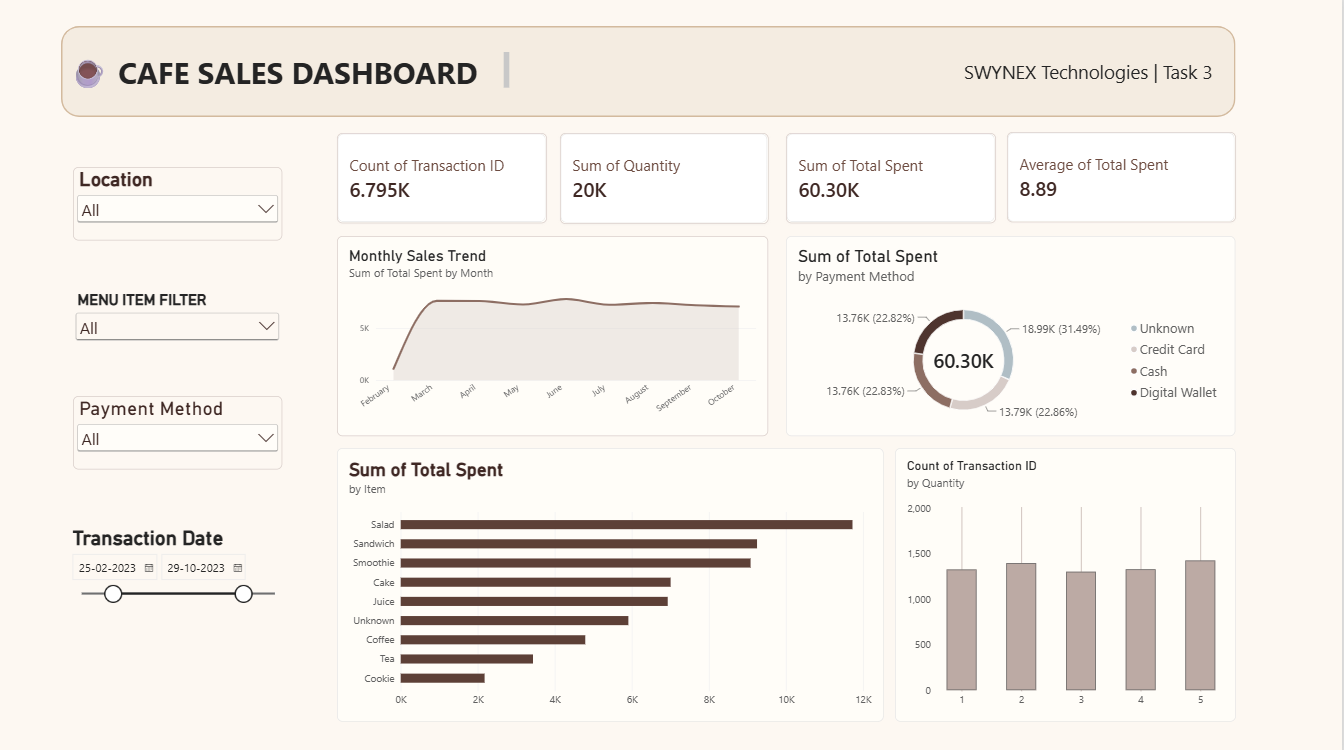

This screenshot's page, from the dashboard's own definition file:
{"tool":"powerbi","page":{"name":"Page 1","canvas":[1920,1080],"ordinal":0},"visuals":[{"type":"shape","box":[90.5,39.4,1677.8,129.8],"z":500},{"type":"cardVisual","fields":{"Data":["Sum(cleaned_cafe_sales.Total Spent)"]},"box":[1126.3,192.6,299.8,128.9],"z":1000},{"type":"cardVisual","fields":{"Data":["Count(cleaned_cafe_sales.Transaction ID)"]},"box":[484.4,192.6,299.8,128.9],"z":2000},{"type":"cardVisual","fields":{"Data":["Sum(cleaned_cafe_sales.Quantity)"]},"box":[802.4,192.6,297.6,129.8],"z":3000},{"type":"cardVisual","fields":{"Data":["Avg(cleaned_cafe_sales.Total Spent)"]},"box":[1441.5,191.1,327,129.4],"z":4000},{"type":"slicer","fields":{"Values":["cleaned_cafe_sales.Location"]},"box":[106.5,240.7,299,104.9],"z":5000},{"type":"slicer","fields":{"Values":["cleaned_cafe_sales.Payment Method"]},"box":[106.5,569,299.1,105],"z":6000},{"type":"slicer","fields":{"Values":["cleaned_cafe_sales.Transaction Date"]},"box":[99.2,754.3,315.1,268.4],"z":7000},{"type":"barChart","fields":{"Category":["cleaned_cafe_sales.Item"],"Y":["Sum(cleaned_cafe_sales.Total Spent)"]},"box":[484.4,643.4,780.5,391],"z":8000},{"type":"areaChart","title":"Monthly Sales Trend","fields":{"Category":["cleaned_cafe_sales.Transaction Date.Variation.Date Hierarchy.Month"],"Y":["Sum(cleaned_cafe_sales.Total Spent)"]},"box":[484.4,339.9,615.7,286],"z":9000},{"type":"clusteredColumnChart","fields":{"Category":["cleaned_cafe_sales.Quantity"],"Y":["CountNonNull(cleaned_cafe_sales.Transaction ID)"]},"box":[1281,643.4,487.3,391],"z":10000},{"type":"donutChart","fields":{"Category":["cleaned_cafe_sales.Payment Method"],"Y":["Sum(cleaned_cafe_sales.Total Spent)"]},"box":[1126.3,339.9,641.9,286],"z":11000},{"type":"textbox","box":[102.1,77.3,628.8,54],"z":11501},{"type":"textbox","box":[1380.2,87.5,499,43.8],"z":11502},{"type":"slicer","fields":{"Values":["cleaned_cafe_sales.Item"]},"box":[105,418.7,300.5,150.3],"z":11503}]}

Visuals, with their boxes in screenshot pixels (x1, y1, x2, y2), scaled from the page's 1920x1080 canvas onto the 1344x750 screenshot:
shape: bbox=(63, 27, 1238, 118)
cardVisual - Sum(cleaned_cafe_sales.Total Spent): bbox=(788, 134, 998, 223)
cardVisual - Count(cleaned_cafe_sales.Transaction ID): bbox=(339, 134, 549, 223)
cardVisual - Sum(cleaned_cafe_sales.Quantity): bbox=(562, 134, 770, 224)
cardVisual - Avg(cleaned_cafe_sales.Total Spent): bbox=(1009, 133, 1238, 223)
slicer - cleaned_cafe_sales.Location: bbox=(75, 167, 284, 240)
slicer - cleaned_cafe_sales.Payment Method: bbox=(75, 395, 284, 468)
slicer - cleaned_cafe_sales.Transaction Date: bbox=(69, 524, 290, 710)
barChart - cleaned_cafe_sales.Item x Sum(cleaned_cafe_sales.Total Spent): bbox=(339, 447, 885, 718)
"Monthly Sales Trend" areaChart: bbox=(339, 236, 770, 435)
clusteredColumnChart - cleaned_cafe_sales.Quantity x CountNonNull(cleaned_cafe_sales.Transaction ID): bbox=(897, 447, 1238, 718)
donutChart - cleaned_cafe_sales.Payment Method x Sum(cleaned_cafe_sales.Total Spent): bbox=(788, 236, 1238, 435)
textbox: bbox=(71, 54, 512, 91)
textbox: bbox=(966, 61, 1315, 91)
slicer - cleaned_cafe_sales.Item: bbox=(74, 291, 284, 395)
